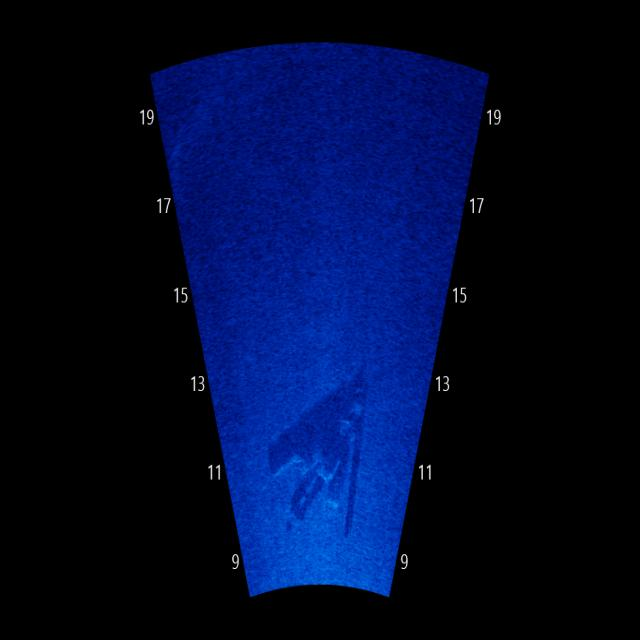triangle: (260, 360, 377, 547)
